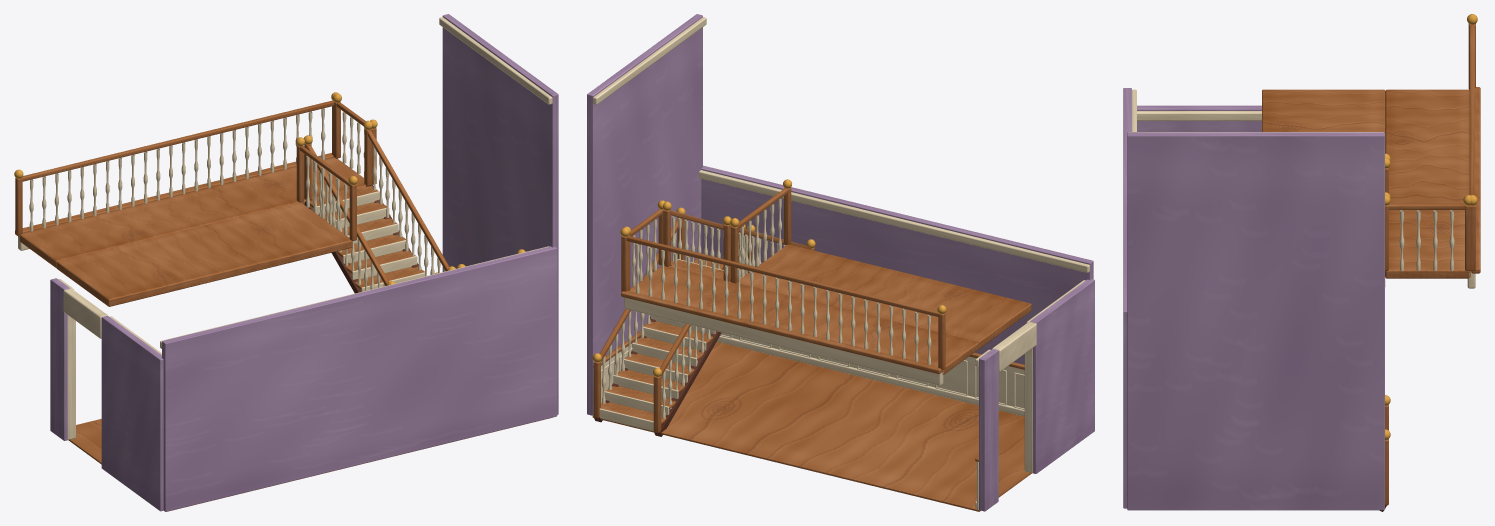
File: V5_HallStairs.fbx
The picture shows the model from 3 angles, left to right: view 1: azimuth 30°, elevation 25°; view 2: azimuth 150°, elevation 25°; view 3: azimuth 270°, elevation 25°; orthographic projection. The views are drawn at different scales.
Visible parts, largest first — view 1: V5_HallStairs; view 2: V5_HallStairs; view 3: V5_HallStairs.
Part boxes in pixels (left/top/right/bottom): V5_HallStairs: left=14, top=14, right=558, bottom=511; V5_HallStairs: left=587, top=14, right=1094, bottom=511; V5_HallStairs: left=1123, top=14, right=1480, bottom=511.
Bounding box in the file's own units: 7.44 × 5.79 × 4.93.
Materials: 1 (1 with a texture image).
